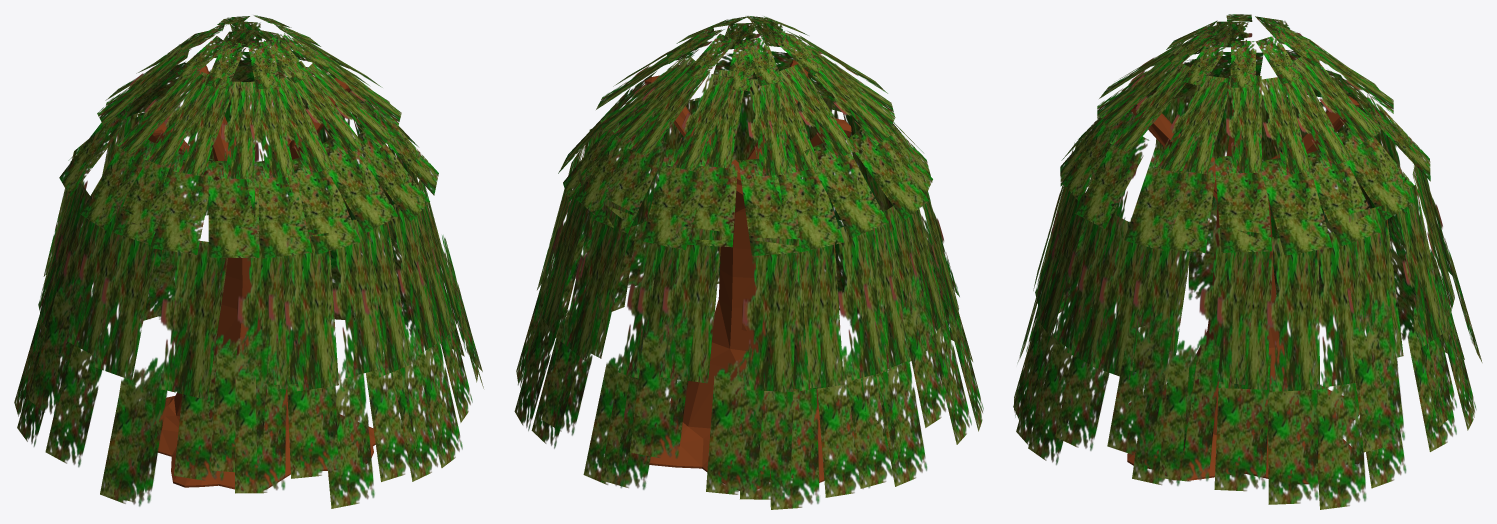
The model's file is willow tree.glb.
3 views of the same model, side by side, from view 1: azimuth 30°, elevation 25°; view 2: azimuth 150°, elevation 25°; view 3: azimuth 270°, elevation 25° (orthographic).
Visible parts, largest first — view 1: Plane.004; view 2: Plane.004; view 3: Plane.004.
Boxes of the visible parts, x1=… form: Plane.004: x1=14, y1=15, x2=483, y2=508; Plane.004: x1=514, y1=16, x2=983, y2=509; Plane.004: x1=1013, y1=14, x2=1482, y2=509.
Size of the model in its own units: 1.89 by 1.8 by 1.87.
Materials: 2 (1 with a texture image).
